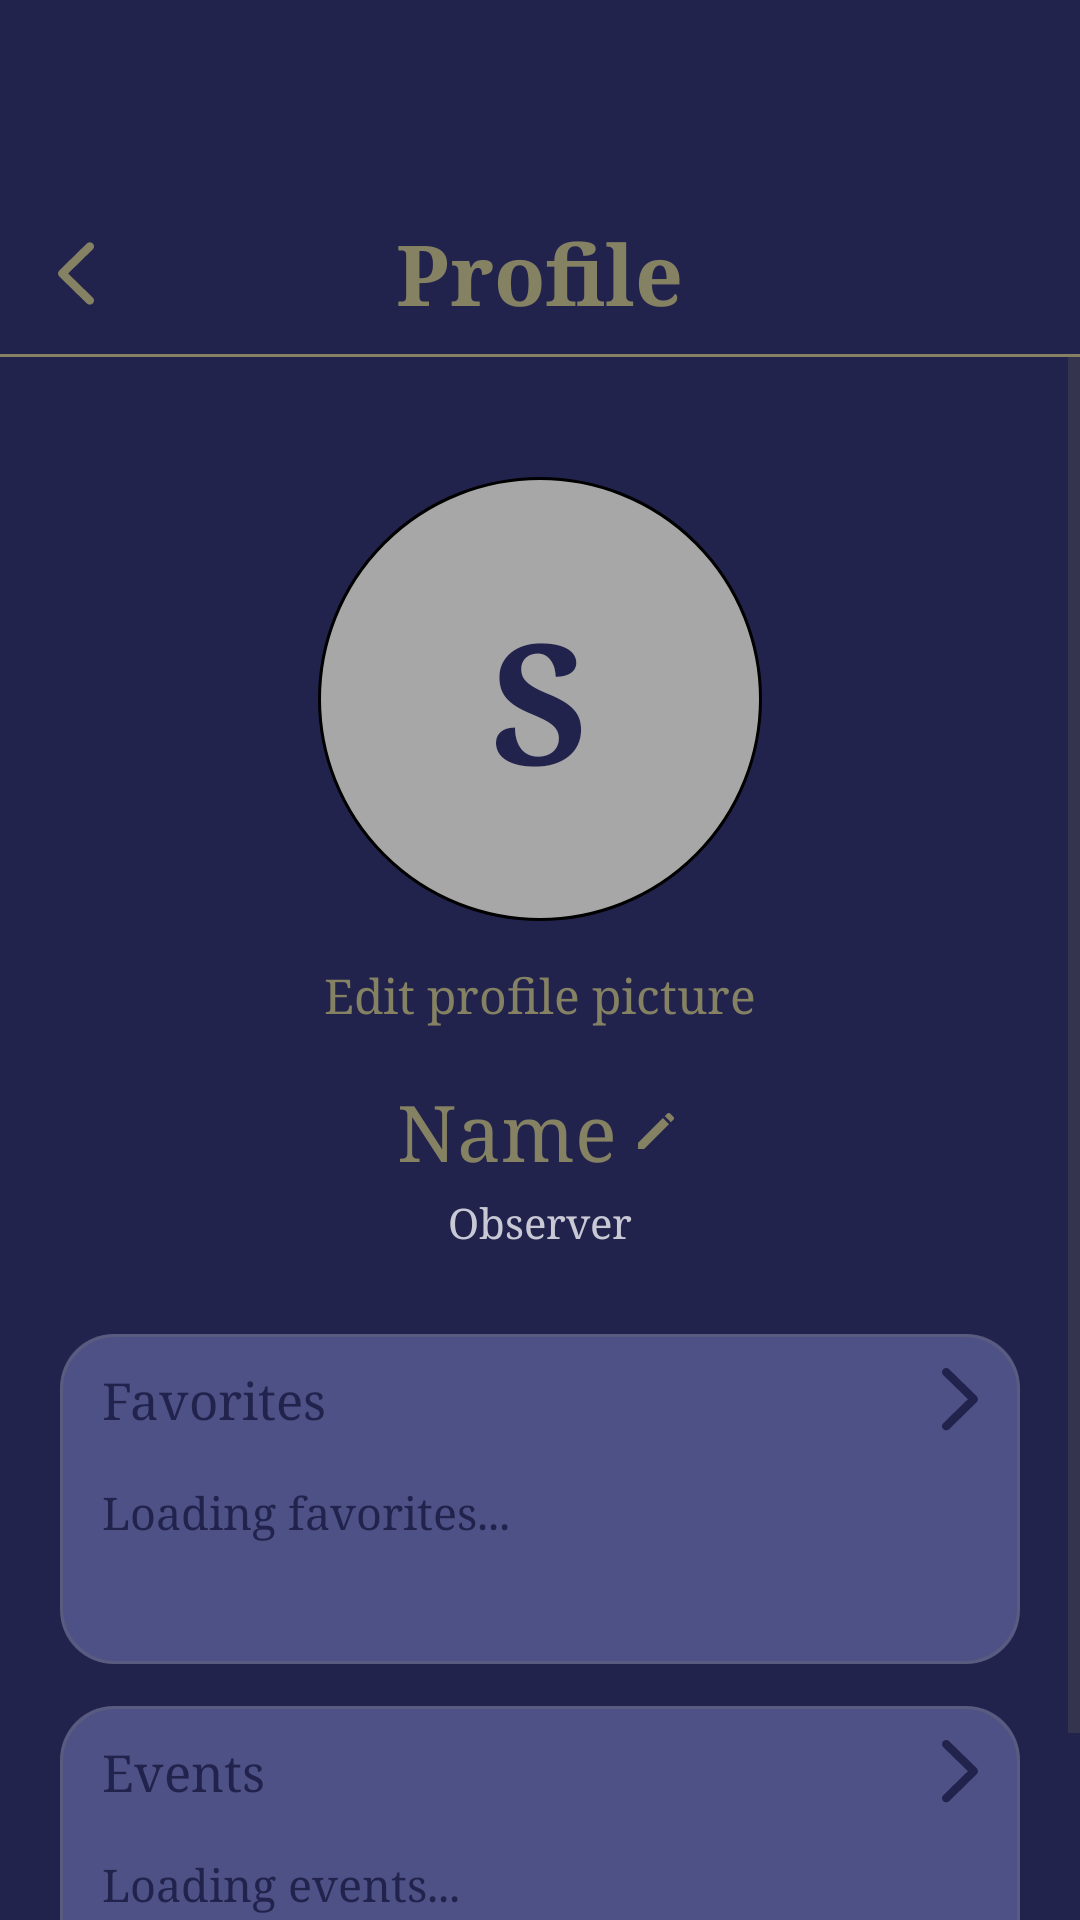

Locate icon controls on the screen. Image size 1080 × 1920, boxes as (left=x1, top=y1, right=x2, bottom=y2).
Back: (left=58, top=242, right=94, bottom=305)
